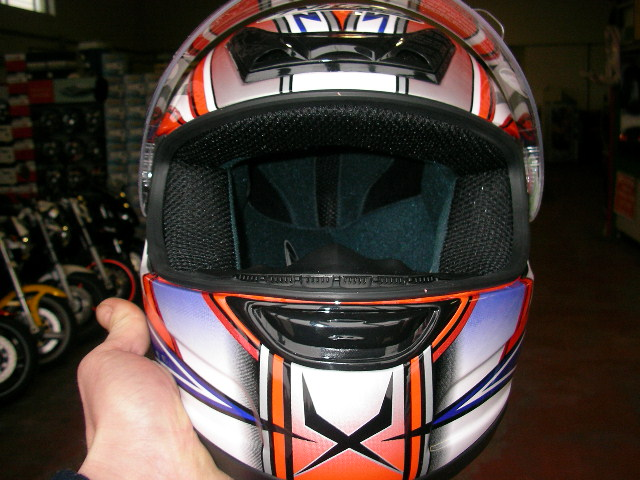helmet: (126, 8, 541, 478)
